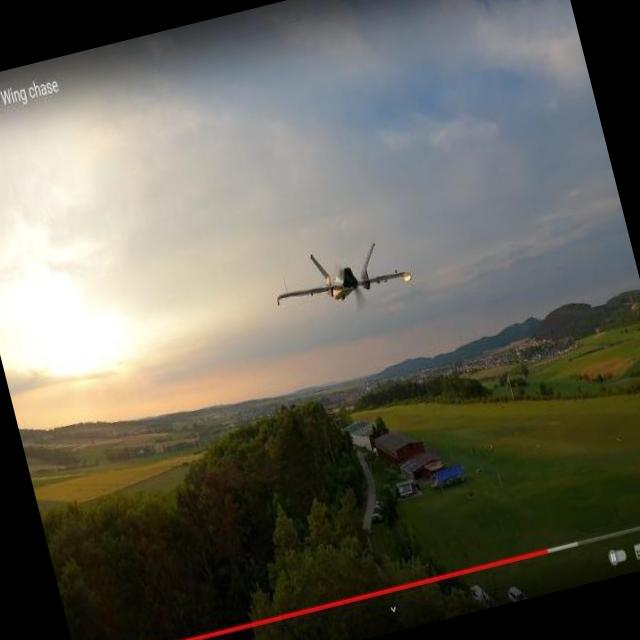UAV: (266, 229, 424, 339)
